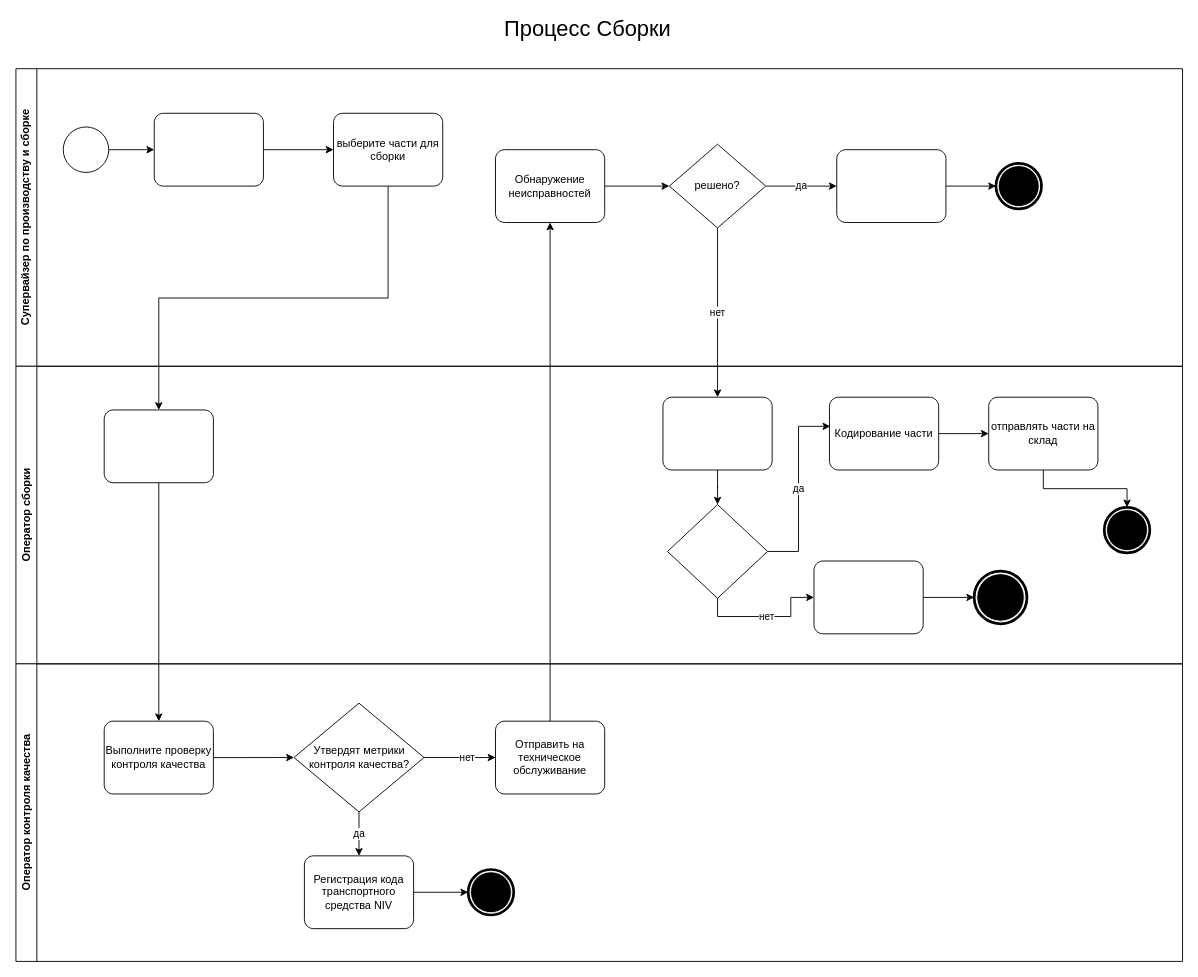
Some shapes in this 1198 by 977 pixel diagram are drawn without their labels. The centre of each missing label's shape, as x and y in pixels:
Выполните сборку: the point at 158,446
Демонтаж автомобиля: the point at 717,433
отбраковывайте части: the point at 868,597
Отправить на экспорт: the point at 891,185
Утвердить сборку автомобиля: the point at 208,149
части исправны?: the point at 717,551
